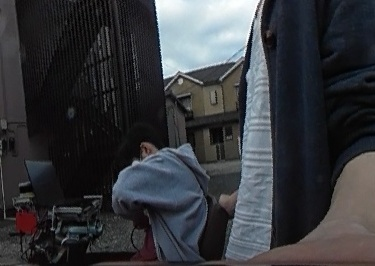person: (91, 116, 208, 266)
